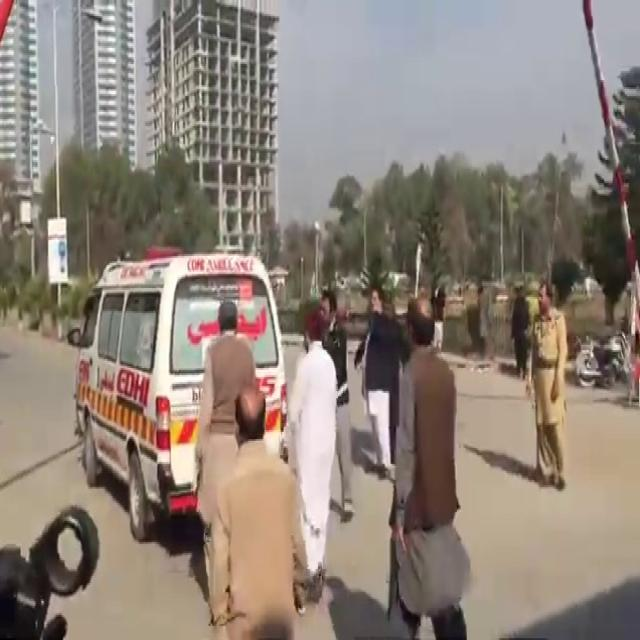ambulance: (71, 220, 321, 527)
